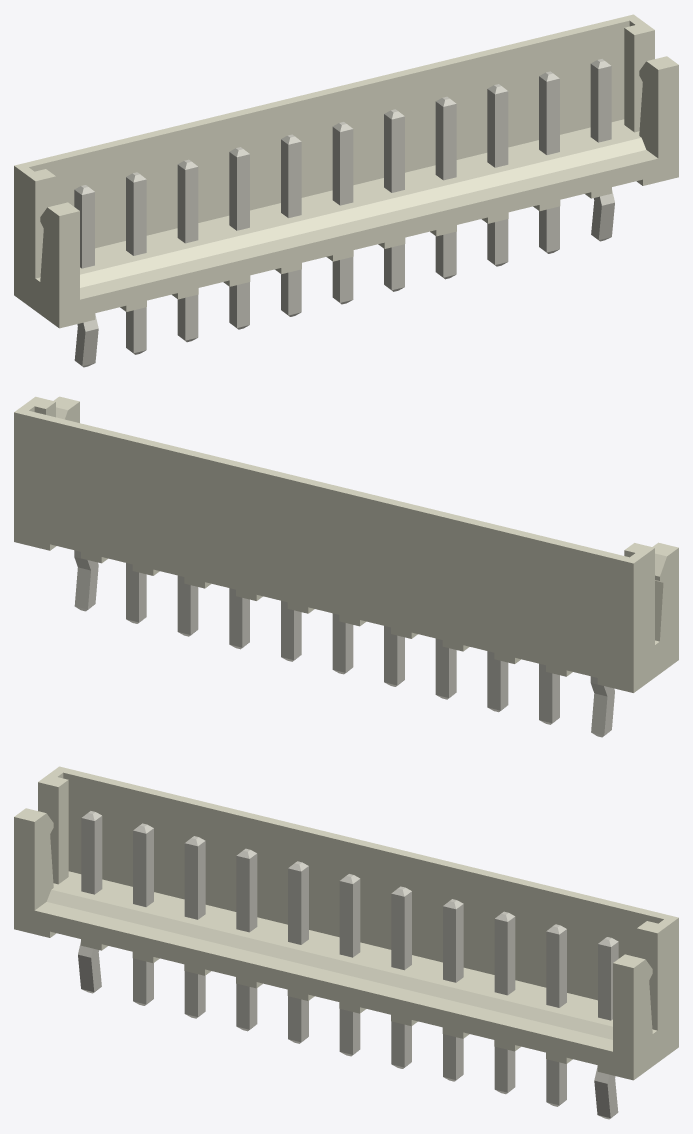
File: kc-jst_eh_b11b-eh-a_1x11_p2.50mm_vertical.glb
3 renders of one model, top to bottom at view 1: azimuth 30°, elevation 25°; view 2: azimuth 150°, elevation 25°; view 3: azimuth 330°, elevation 25°, orthographic.
Visible parts, largest first — view 1: 0.75_0.75_0.5833333333333334_0, 0.6666666666666666_0.6666666666666666_0.5833333333333334_0.8; view 2: 0.75_0.75_0.5833333333333334_0, 0.6666666666666666_0.6666666666666666_0.5833333333333334_0.8; view 3: 0.75_0.75_0.5833333333333334_0, 0.6666666666666666_0.6666666666666666_0.5833333333333334_0.8.
Boxes of the visible parts, x1,y1,x2,y2 form: 0.75_0.75_0.5833333333333334_0: (14, 14, 678, 328); 0.6666666666666666_0.6666666666666666_0.5833333333333334_0.8: (74, 59, 614, 367); 0.75_0.75_0.5833333333333334_0: (14, 396, 678, 692); 0.6666666666666666_0.6666666666666666_0.5833333333333334_0.8: (74, 550, 614, 737); 0.75_0.75_0.5833333333333334_0: (14, 766, 678, 1080); 0.6666666666666666_0.6666666666666666_0.5833333333333334_0.8: (78, 811, 618, 1119).
Bounding box in the file's own units: 3 × 0.92 × 0.3801.
